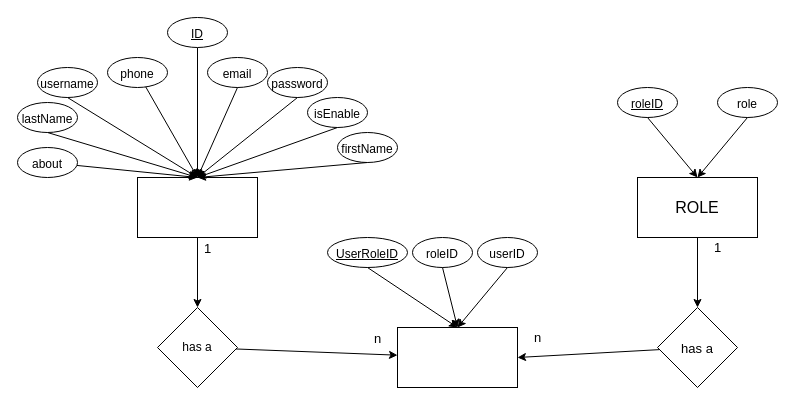
Some shapes in this 795 by 405 pixel diagram are drawn without their labels. Here are the shapes that lost their labels. From the top down, the centre of each, then its label:
At [197,207]: "USER".
At [457,357]: "USER_ROLE".
